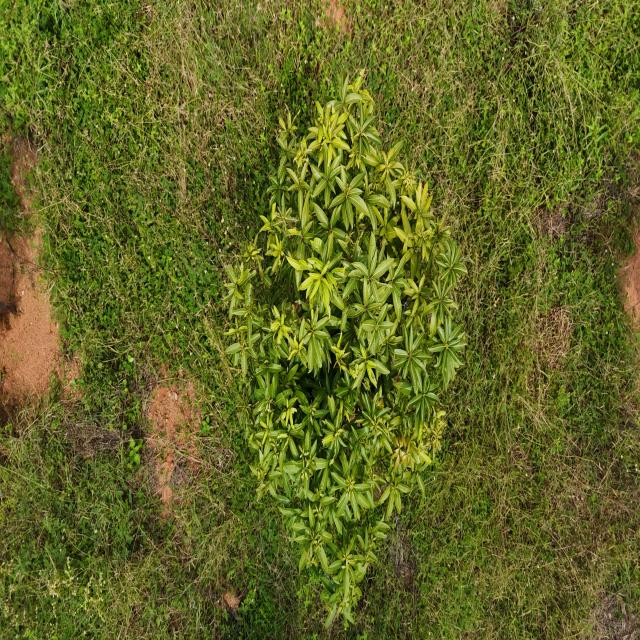mangoTree: (222, 61, 469, 628)
